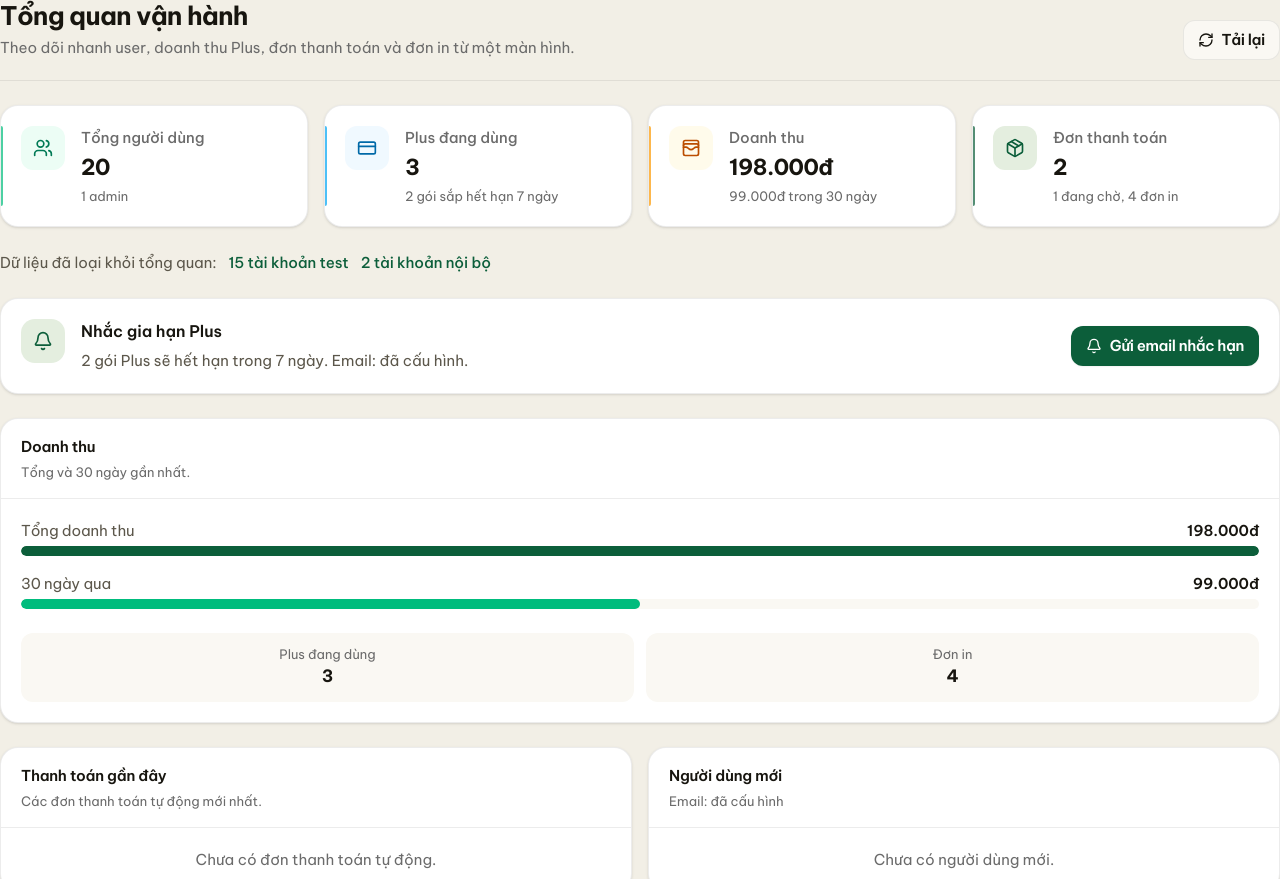
Scenario: AdminDashboardPage operational summary › keeps the previous reminder result when a later run fails
Click the button "Gửi email nhắc hạn": (1165, 346) [1071, 326, 1259, 366]
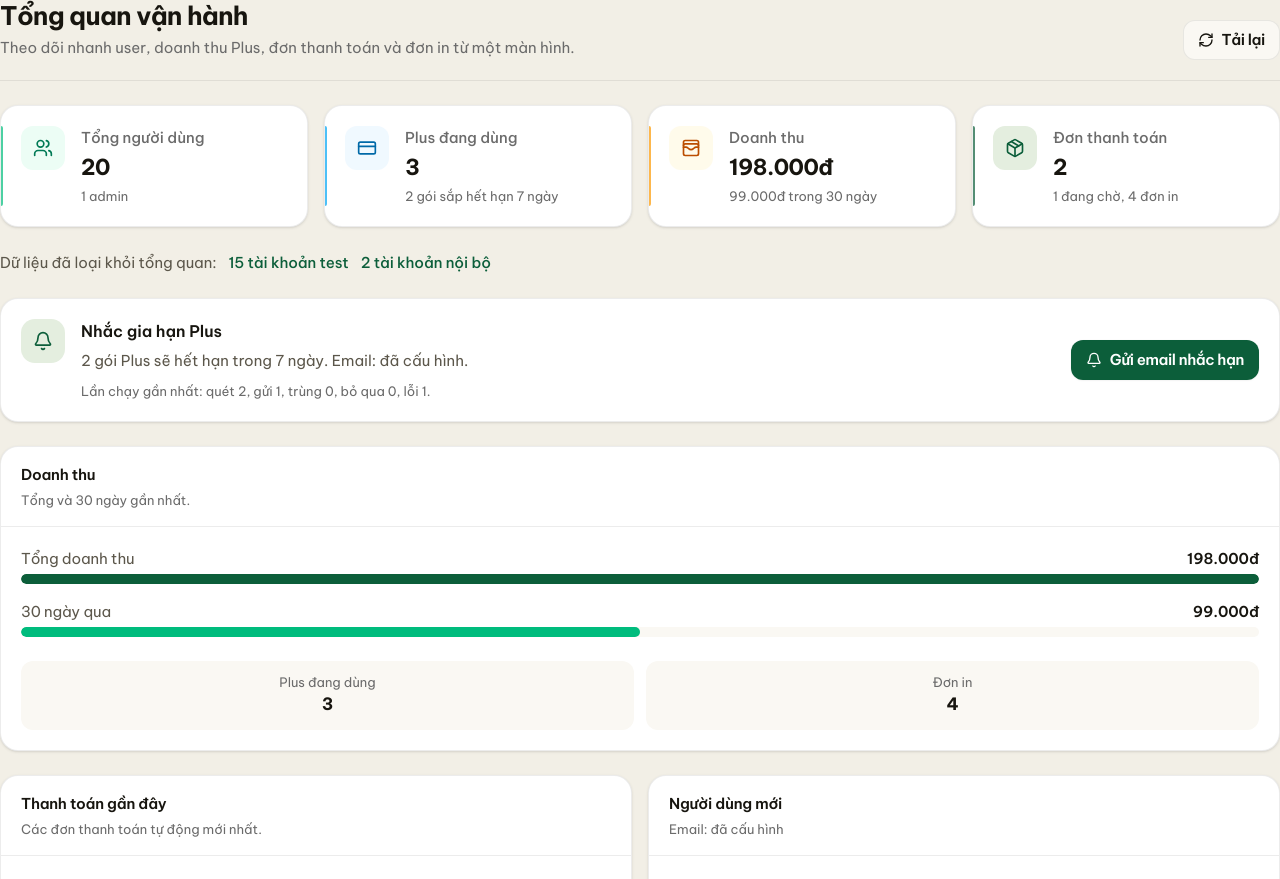
Expected: the text "Lần chạy gần nhất: quét 2, gửi 1, trùng 0, bỏ qua 0, lỗi 1." is shown, [81, 381, 468, 401]
Click the button "Gửi email nhắc hạn": (1165, 360) [1071, 340, 1259, 380]
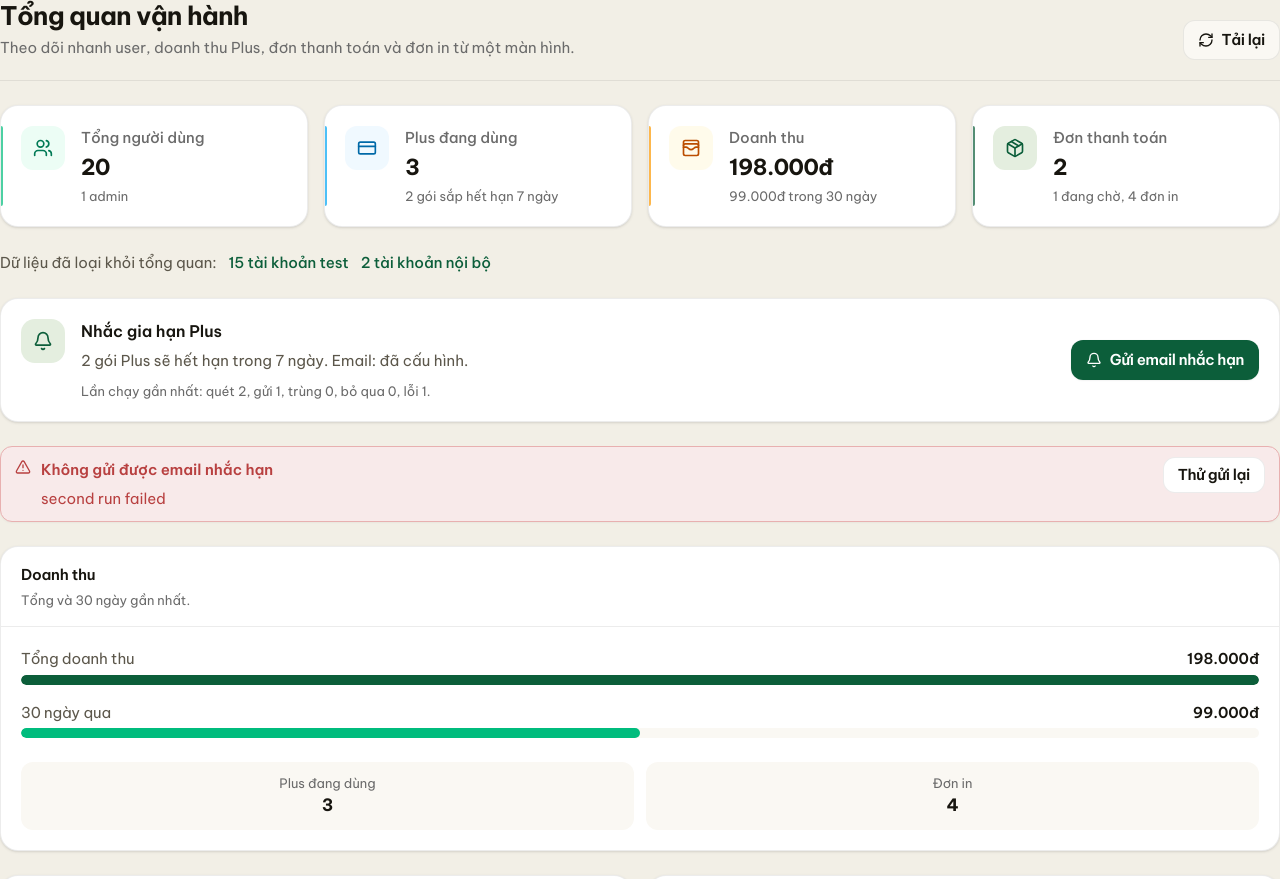
Expected: the text "Lần chạy gần nhất: quét 2, gửi 1, trùng 0, bỏ qua 0, lỗi 1." is shown, [81, 381, 468, 401]
Expected: the message shows "second run failed", [41, 489, 166, 508]
